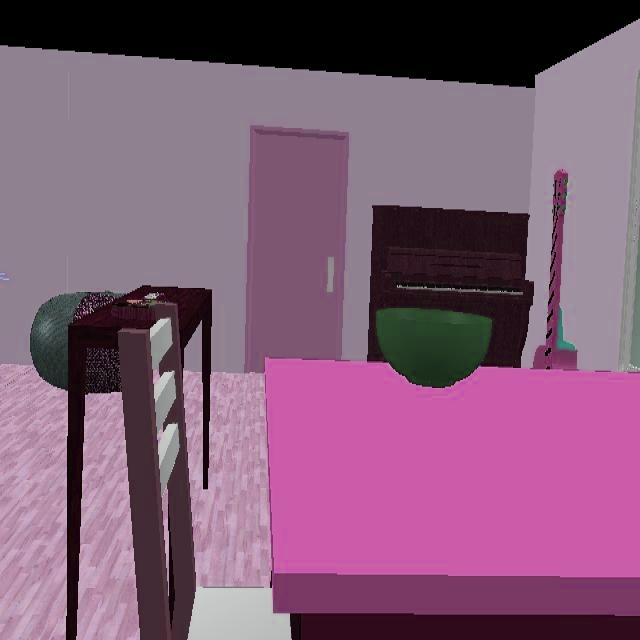chair: (119, 303, 290, 640)
table: (265, 360, 640, 640), (66, 305, 155, 638), (128, 285, 212, 488)
